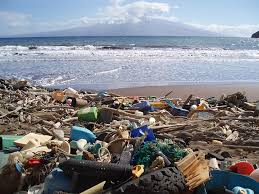garbage: (2, 83, 252, 194), (10, 90, 259, 193)
